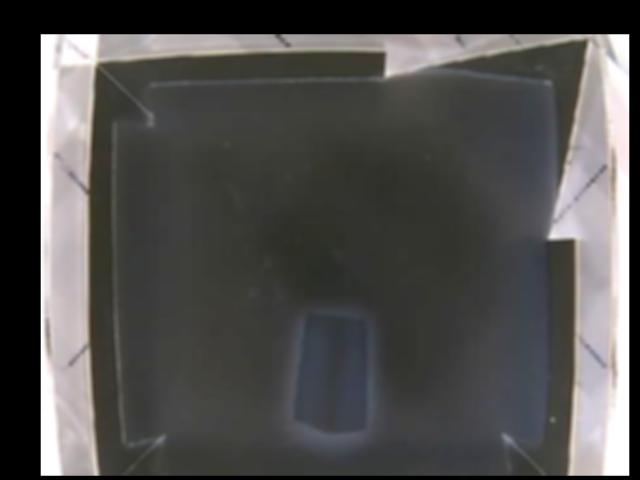Mooli: (293, 310, 366, 431)
